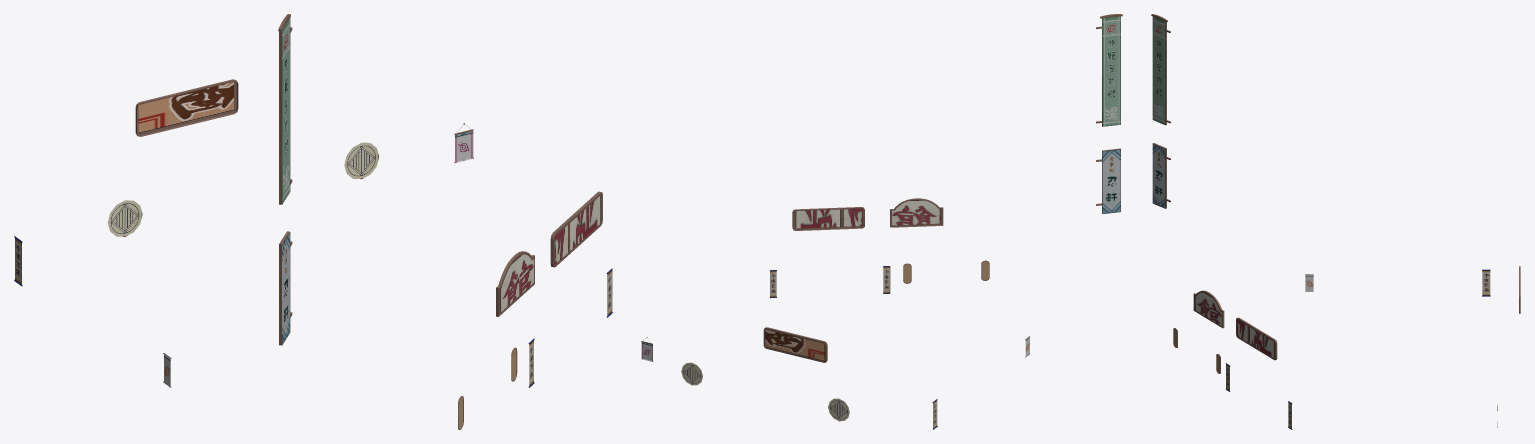
File: SM_ENV_KNVLLG_Signs_1.fbx
3 renders of one model, left to right at view 1: azimuth 30°, elevation 25°; view 2: azimuth 150°, elevation 25°; view 3: azimuth 270°, elevation 25°, orthographic. The views are drawn at different scales.
Visible parts, largest first — view 1: SM_ENV_KNVLLG_Signs_1.mo; view 2: SM_ENV_KNVLLG_Signs_1.mo; view 3: SM_ENV_KNVLLG_Signs_1.mo.
Part boxes in pixels (x1,y1,x2,y2): SM_ENV_KNVLLG_Signs_1.mo: [14, 14, 612, 429]; SM_ENV_KNVLLG_Signs_1.mo: [641, 14, 1122, 429]; SM_ENV_KNVLLG_Signs_1.mo: [1151, 14, 1520, 429].
Bounding box in the file's own units: 3690 × 3500 × 4097.
